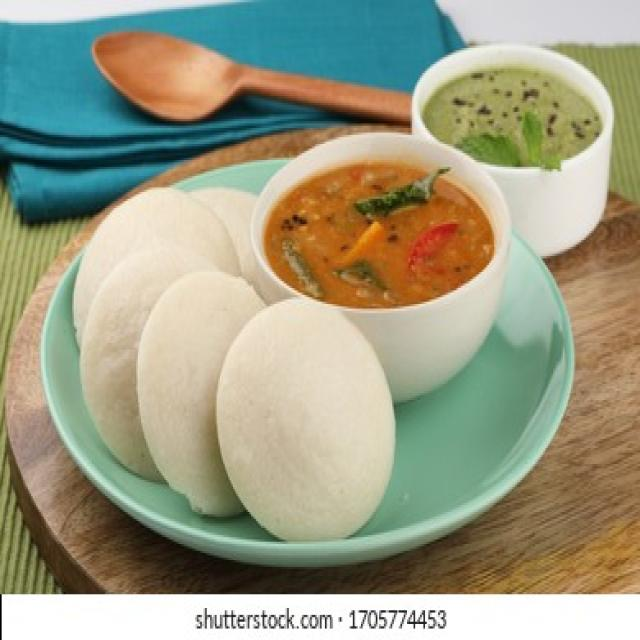IDLI: (217, 298, 399, 544), (77, 244, 218, 480), (138, 271, 269, 516), (73, 195, 243, 336), (196, 191, 262, 276)
